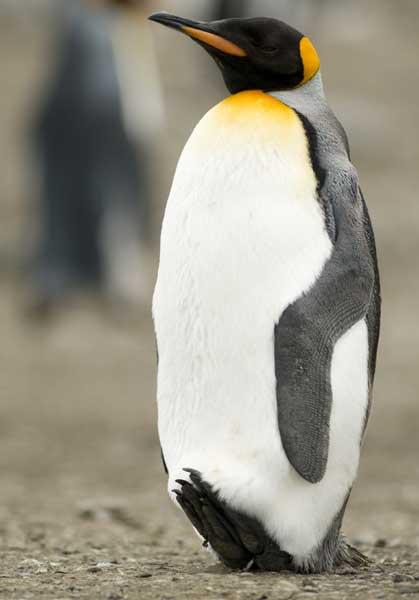king: (124, 0, 389, 600)
